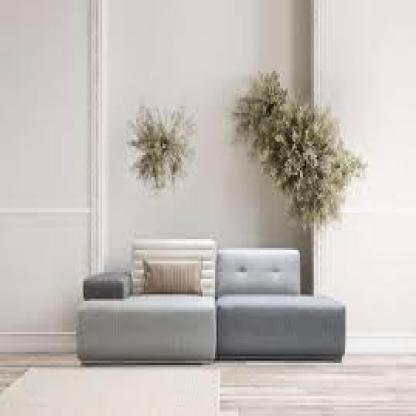sofa: (83, 239, 348, 374)
